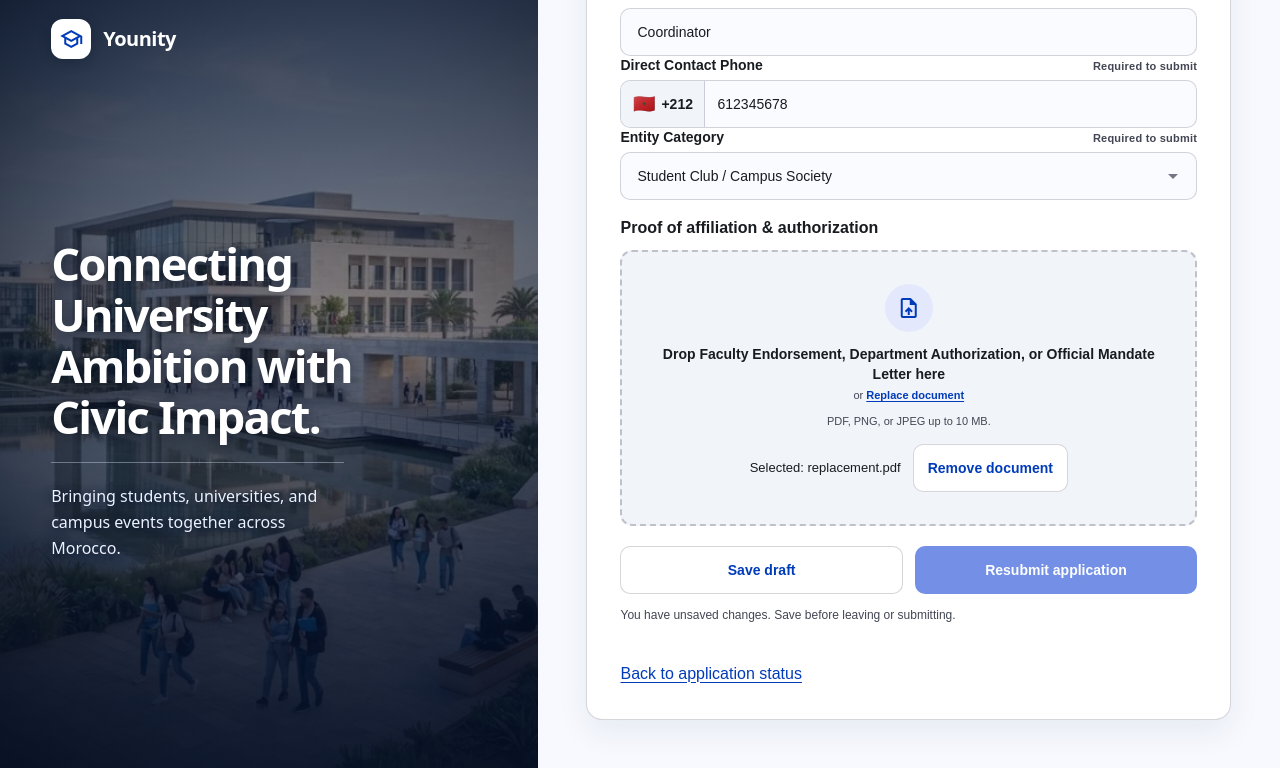
Test case: organizer draft frontend integration › saves a replacement proof alongside the draft and restores its filename on reopen
The width and height of the screenshot is (1280, 768).
Earlier steps of the test are not shown.
Later steps or results of the test are not shown.
(page scrolled)
Check: the button "Resubmit application" is disabled, box [915,546,1197,594]
Click the button "Save draft".
click(762, 570)  # box [620,546,903,594]
(page scrolled)
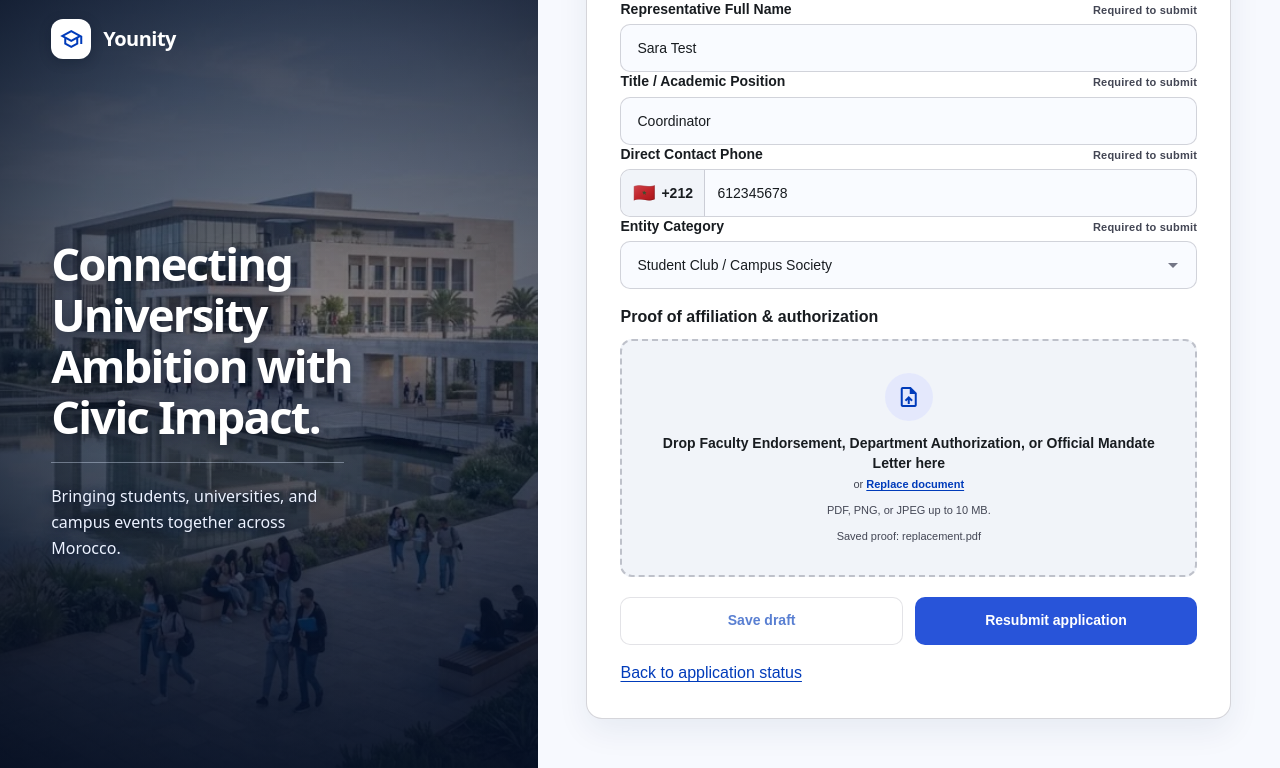
Check: the text "Saved proof: replacement.pdf" is shown, box [837,530,981,542]
Check: the text "Selected: replacement.pdf" is gone
